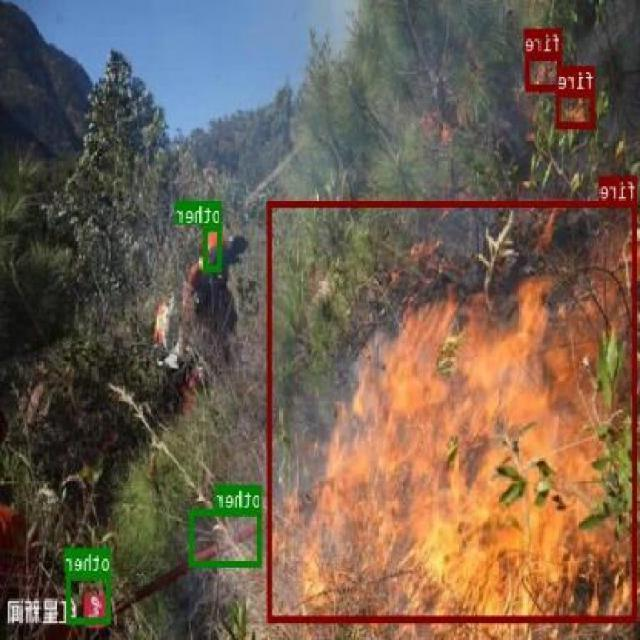Fire: (268, 198, 638, 622), (558, 89, 596, 128), (526, 51, 563, 91)
